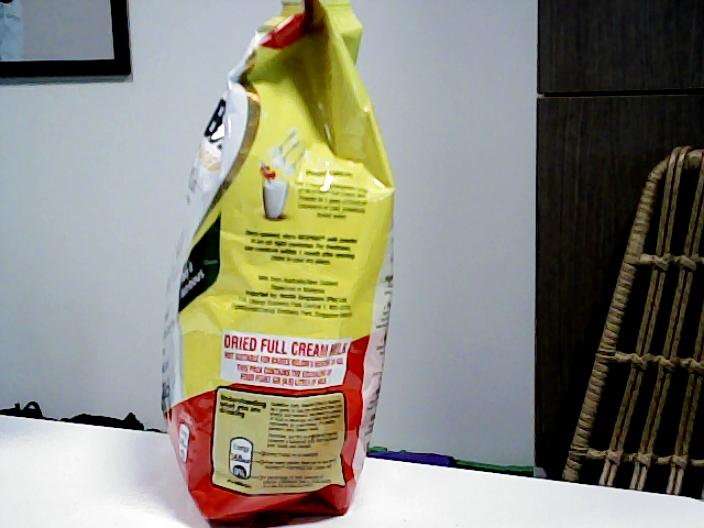Adult_Milk_600-699g_Halal_NonHealthy: (163, 1, 395, 526)
